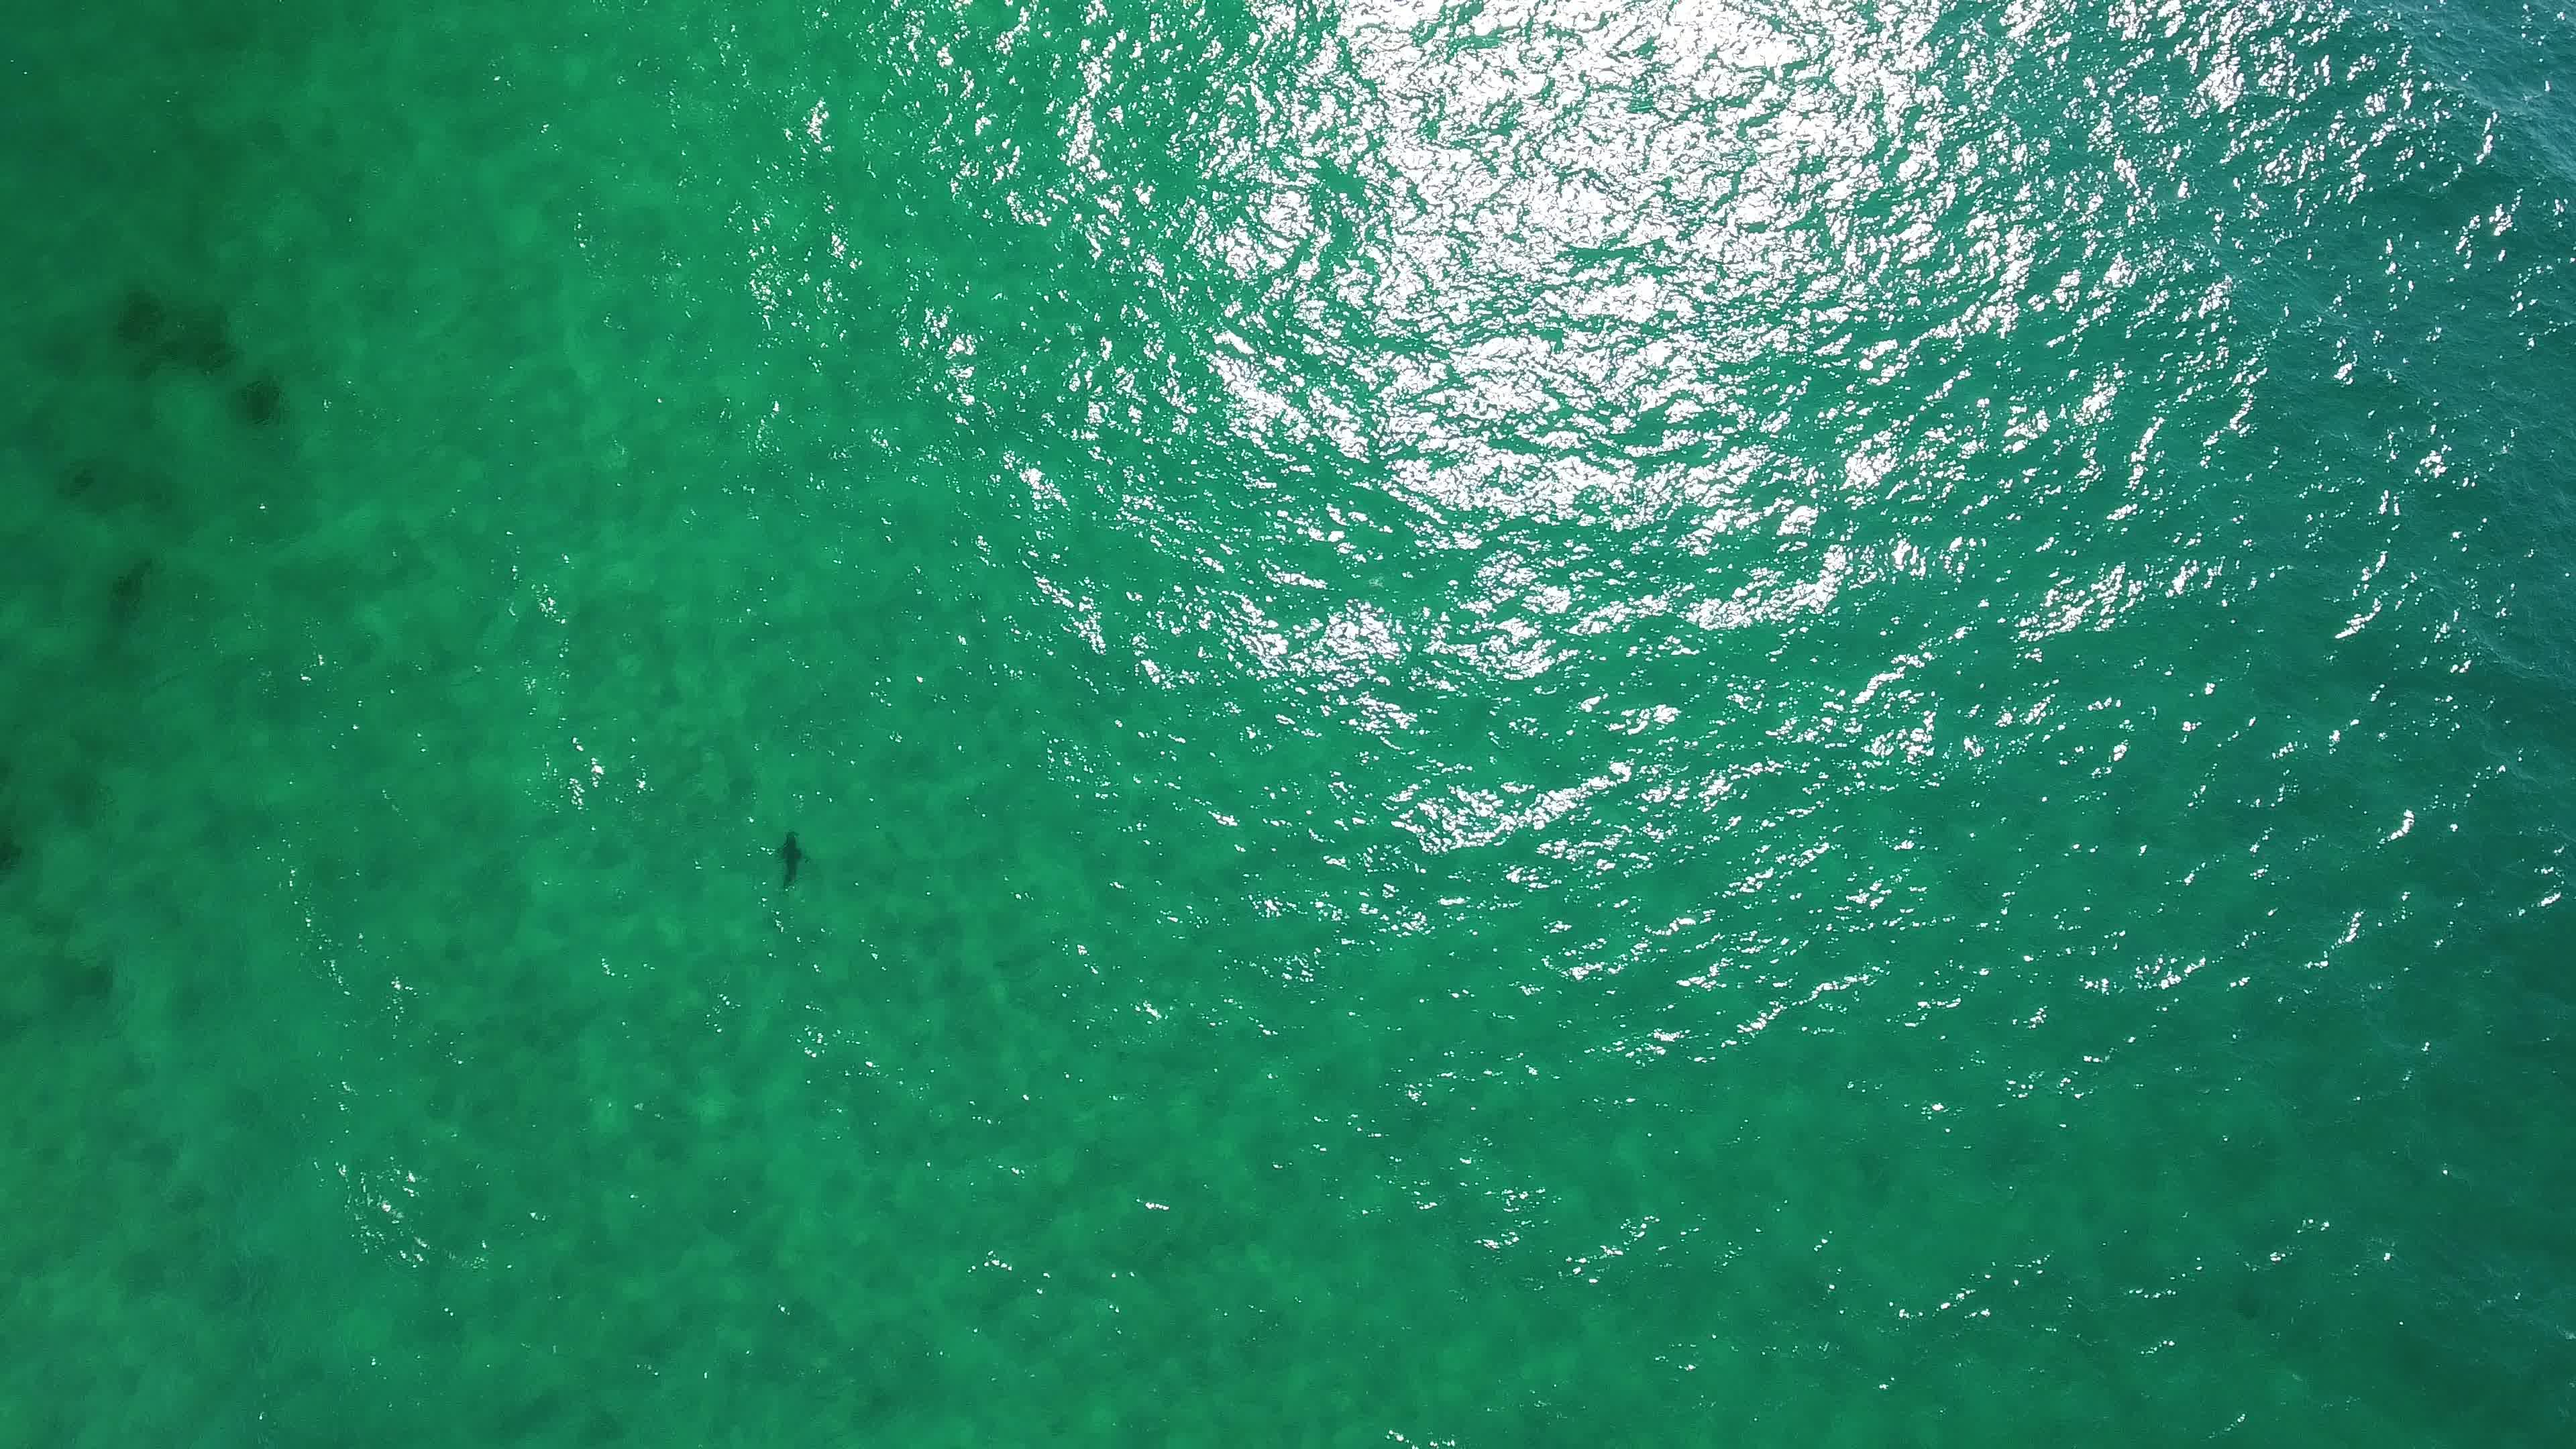shark: (770, 826, 814, 893)
